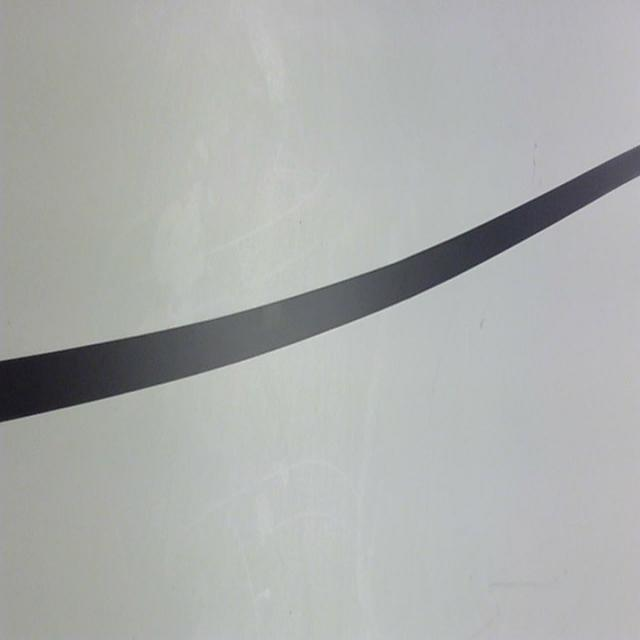tape: (0, 131, 640, 453)
